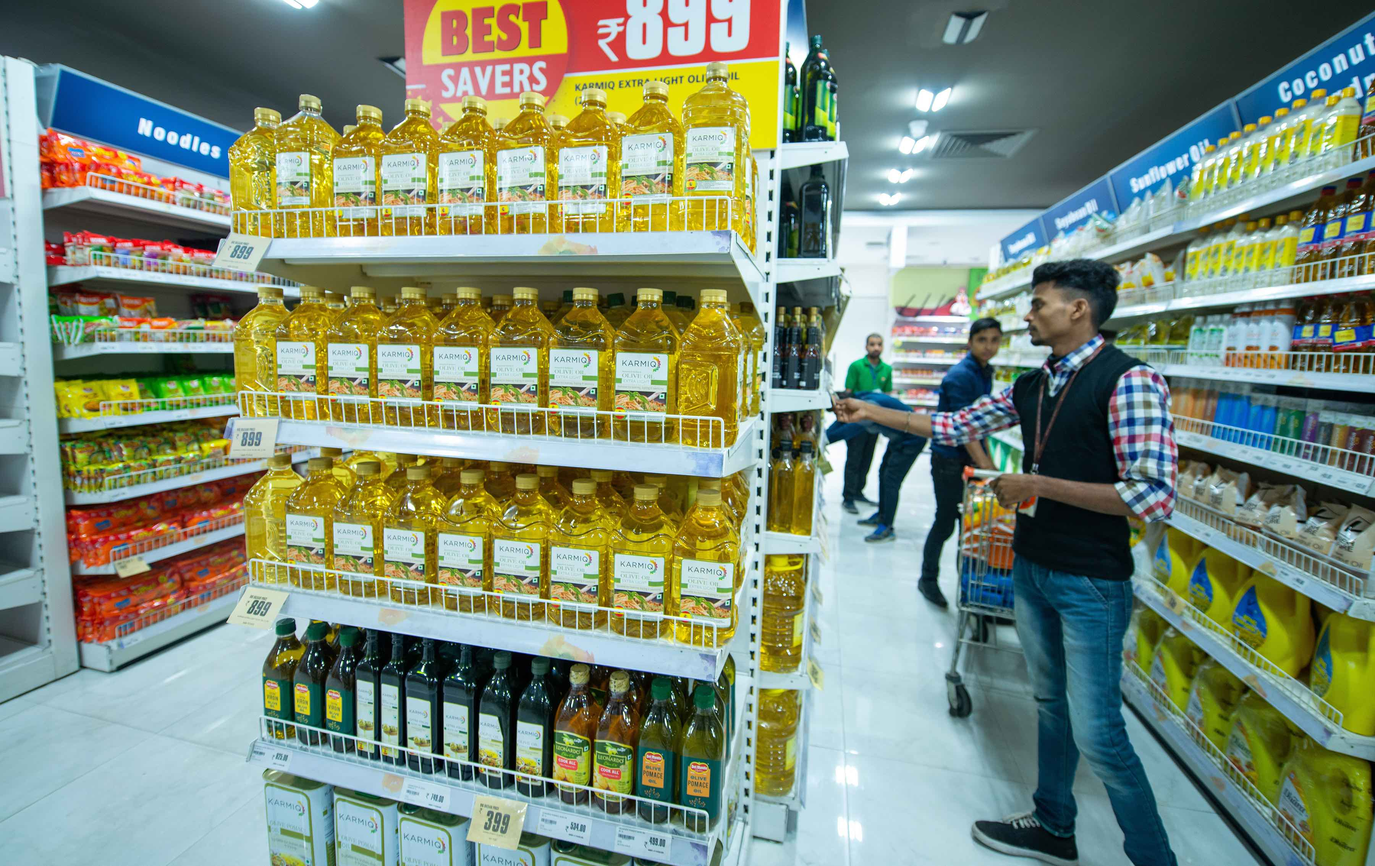other: (237, 435, 751, 646), (253, 612, 739, 824), (231, 265, 767, 449), (229, 63, 754, 245)
